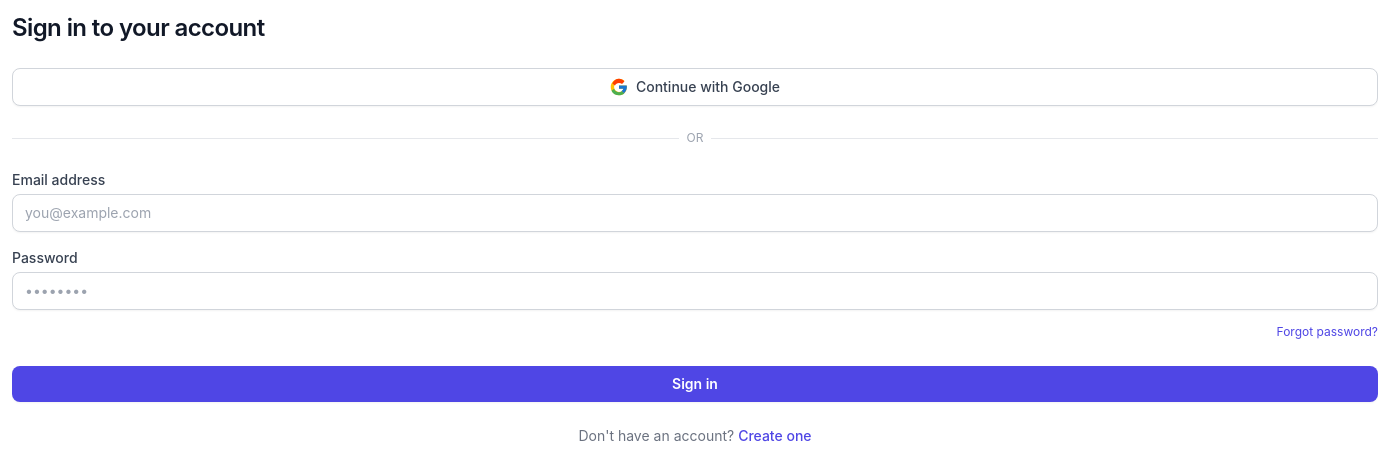
it: LoginPage › shows loading state during form submission
Step 1. Type "test@example.com" into the field labelled "Email address" → (695, 213), box [12, 194, 1378, 232]
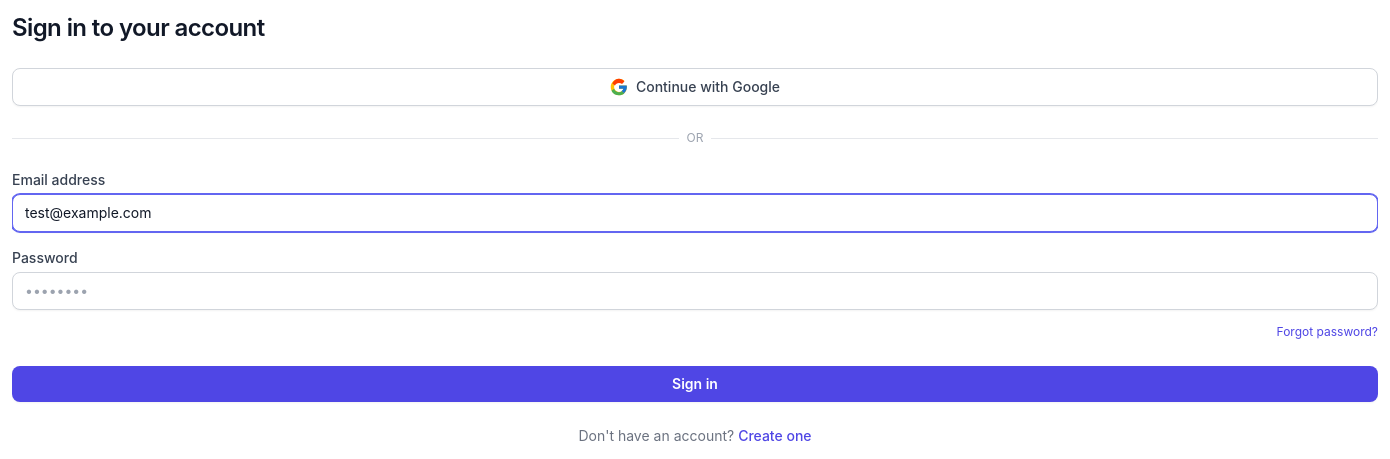
Step 2. Type "password123" into the password field labelled "Password" → (695, 291), box [12, 272, 1378, 310]
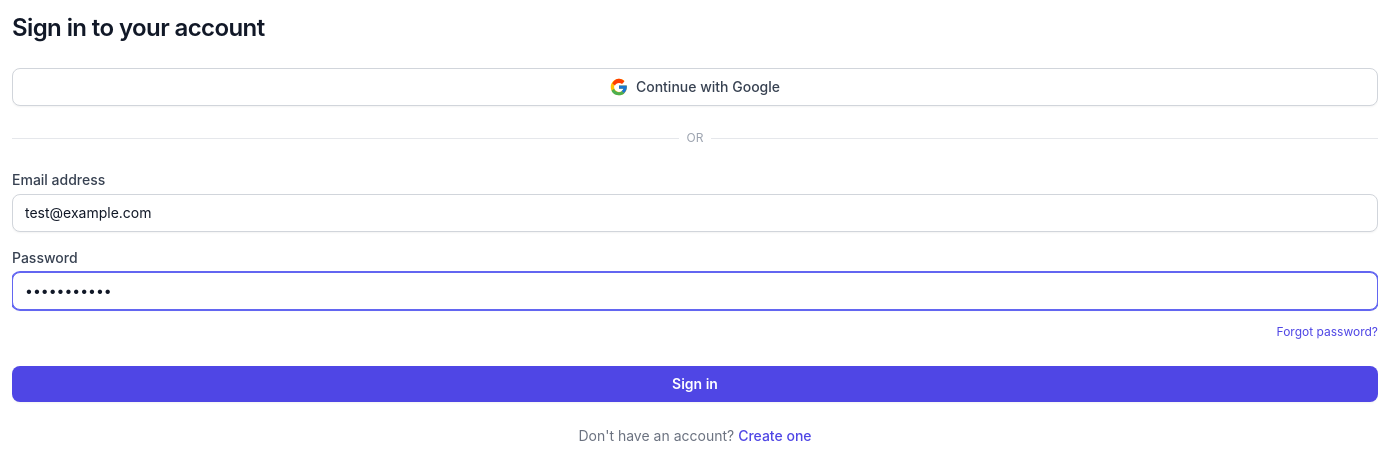
Step 3. Click the button "Sign in" → (695, 384), box [12, 366, 1378, 402]
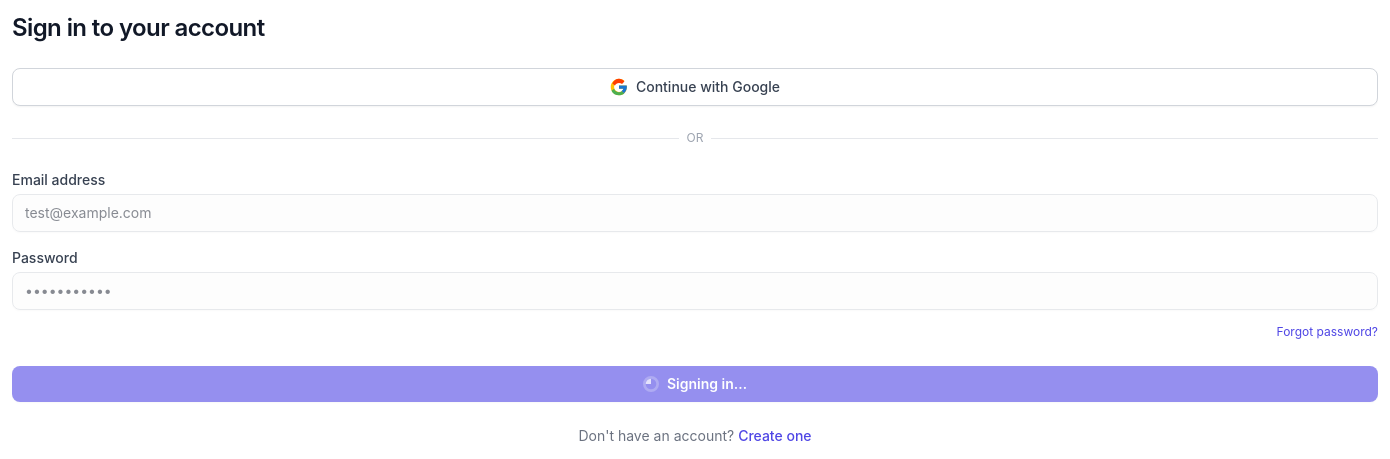
Now the button "Signing in…" is shown, box [12, 366, 1378, 402]
